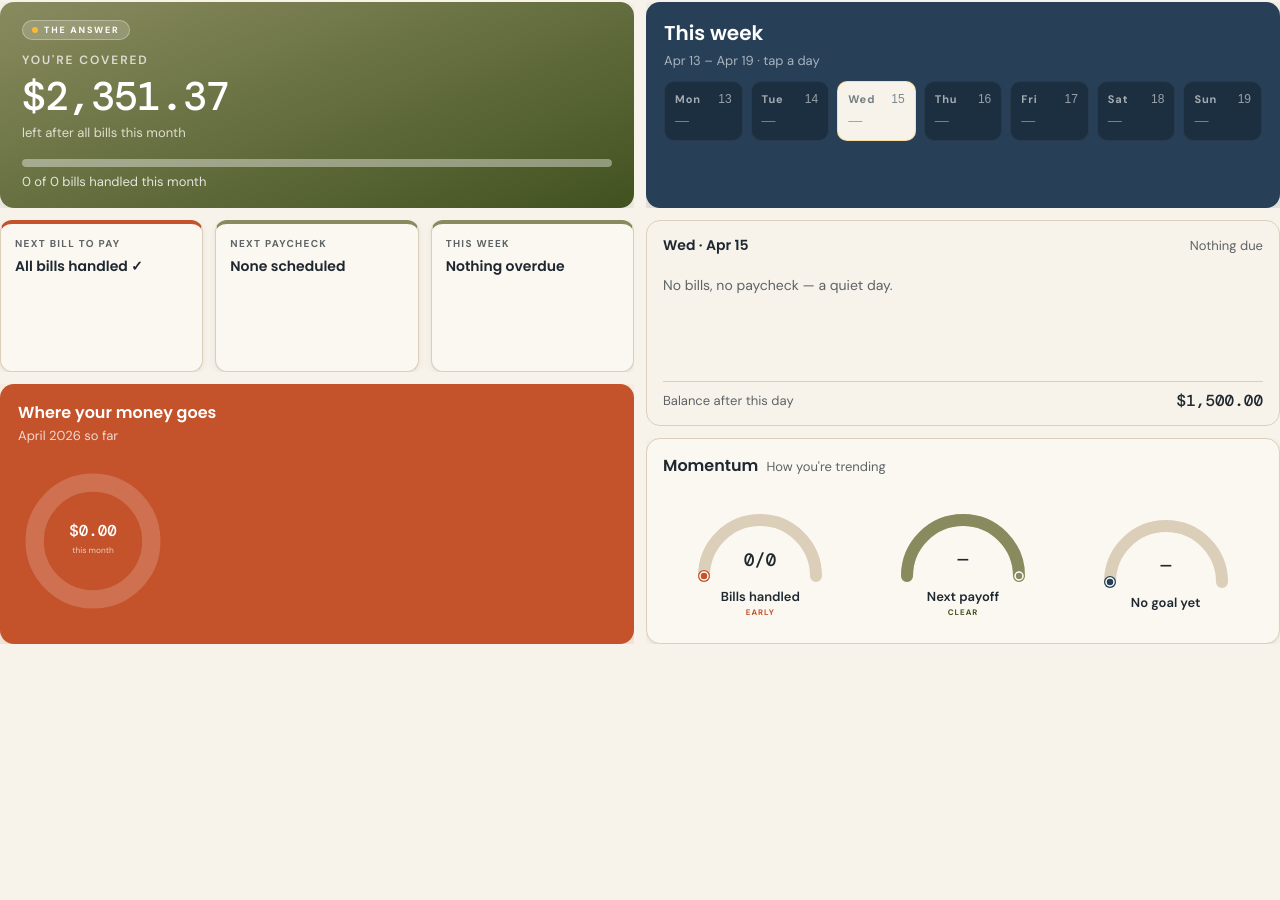
HomeTab — interactions › selecting a day in the rail updates the day-detail tile
Click the text "Mon" at (688, 99), box [675, 92, 701, 106]
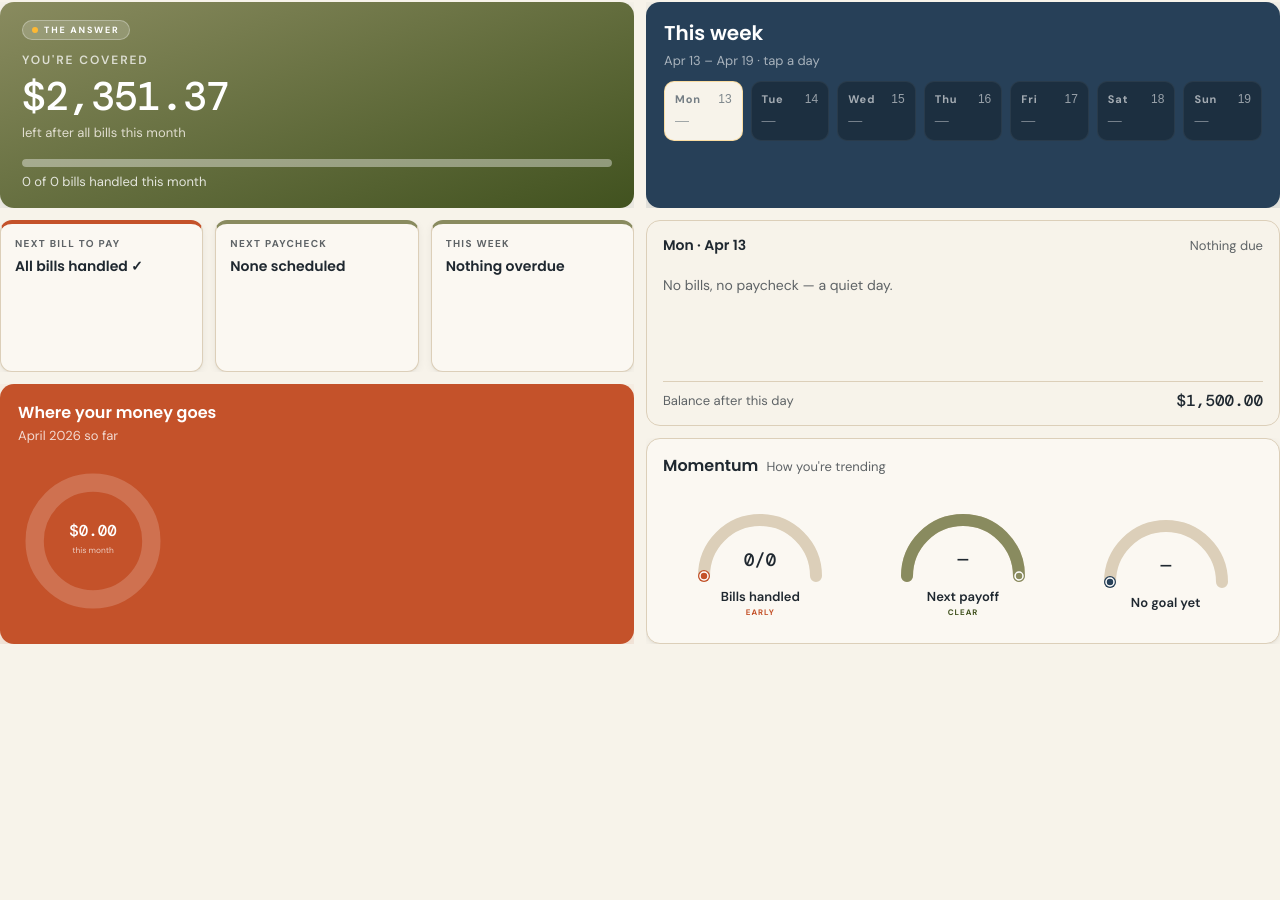
Check: the text "Mon · Apr 13" is shown, box [663, 235, 746, 256]
